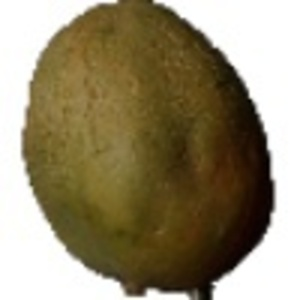mamão: (11, 1, 281, 292)
